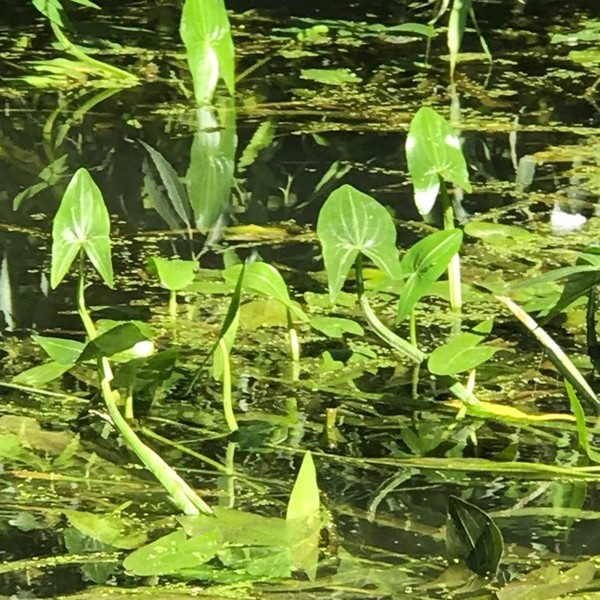obstacle: (70, 125, 522, 491)
